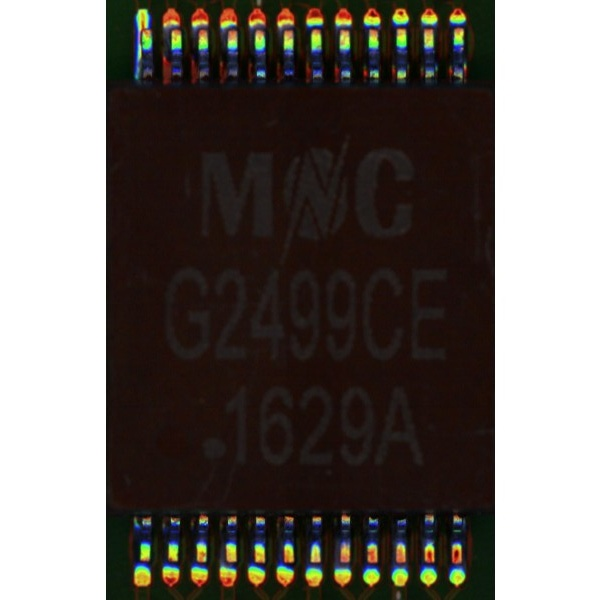Bad_podu: (139, 18, 146, 34)
Bad_qiaojiao: (134, 30, 140, 82)
